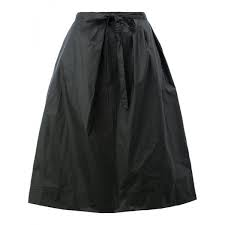S_skirt: (25, 9, 198, 219)
